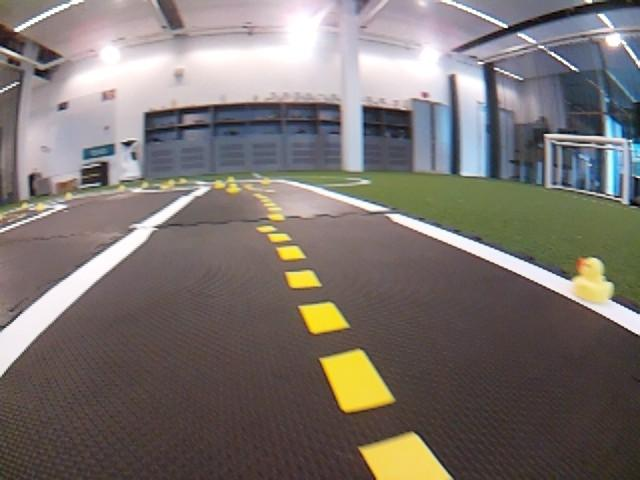Duckies: (572, 257, 613, 303), (226, 184, 240, 194), (214, 179, 226, 189), (160, 182, 171, 189), (36, 203, 46, 210), (260, 178, 271, 184), (65, 192, 73, 200), (21, 202, 30, 209), (227, 176, 236, 183), (167, 179, 176, 185), (118, 185, 126, 191), (179, 178, 187, 183), (141, 182, 149, 187)
